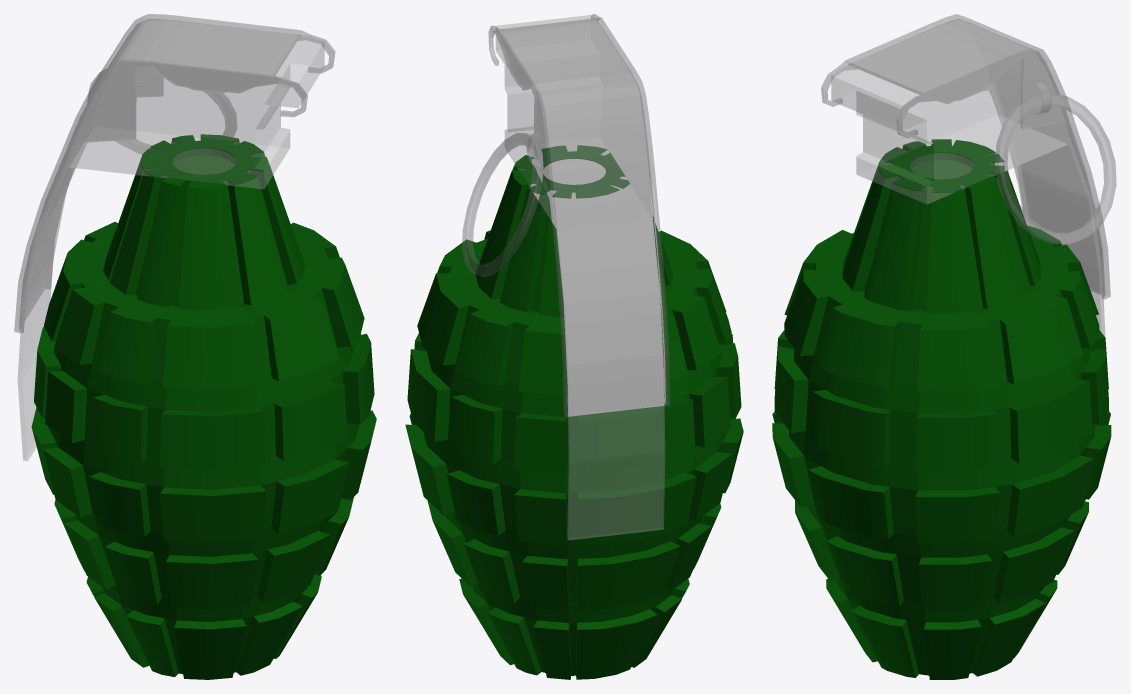
The model's file is grenade.glb.
The picture shows the model from 3 angles, left to right: view 1: azimuth 30°, elevation 25°; view 2: azimuth 150°, elevation 25°; view 3: azimuth 270°, elevation 25°; orthographic projection. The views are drawn at different scales.
Parts seen in each view (by area): view 1: Grenade; view 2: Grenade; view 3: Grenade.
Part boxes in pixels (x1,y1,x2,y2): Grenade: [14, 14, 376, 679]; Grenade: [405, 14, 743, 679]; Grenade: [772, 14, 1116, 679].
Size of the model in its own units: 0.9375 by 1.83 by 0.9521.
